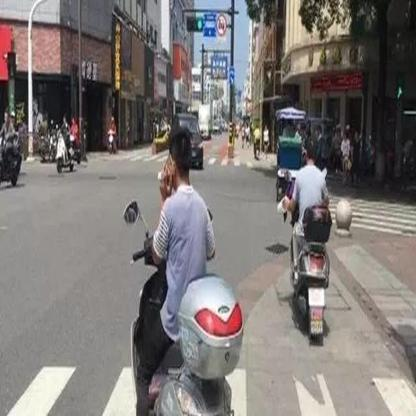target: (119, 128, 245, 410), (276, 135, 339, 348)
